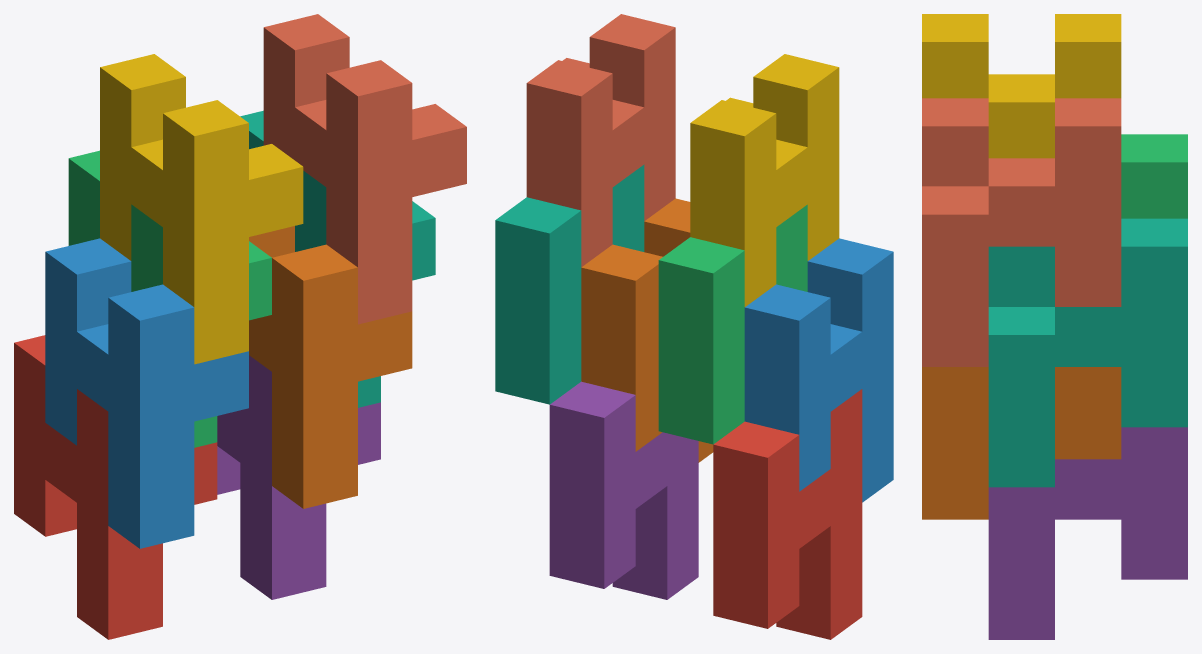
The model's file is tiling.obj.
The picture shows the model from 3 angles, left to right: view 1: azimuth 30°, elevation 25°; view 2: azimuth 150°, elevation 25°; view 3: azimuth 270°, elevation 25°; orthographic projection. The views are drawn at different scales.
Visible parts, largest first — view 1: copy_1_domain_2, copy_1_domain_4, copy_1_domain_8, copy_1_domain_6, copy_1_domain_1, copy_1_domain_5, copy_1_domain_3, copy_1_domain_7; view 2: copy_1_domain_1, copy_1_domain_2, copy_1_domain_5, copy_1_domain_4, copy_1_domain_8, copy_1_domain_7, copy_1_domain_3, copy_1_domain_6; view 3: copy_1_domain_8, copy_1_domain_7, copy_1_domain_5, copy_1_domain_4, copy_1_domain_6, copy_1_domain_3.
Part boxes in pixels (box(x1,y1,x2,y2)): copy_1_domain_2: box(45, 238, 248, 548); copy_1_domain_4: box(100, 54, 303, 364); copy_1_domain_8: box(263, 14, 466, 324); copy_1_domain_6: box(249, 226, 412, 508); copy_1_domain_1: box(14, 335, 217, 639); copy_1_domain_5: box(217, 355, 380, 599); copy_1_domain_3: box(68, 150, 271, 447); copy_1_domain_7: box(240, 110, 435, 407); copy_1_domain_1: box(713, 389, 862, 639); copy_1_domain_2: box(744, 238, 893, 502); copy_1_domain_5: box(549, 381, 698, 599); copy_1_domain_4: box(690, 54, 839, 306); copy_1_domain_8: box(526, 14, 675, 266); copy_1_domain_7: box(495, 164, 644, 404); copy_1_domain_3: box(658, 204, 807, 444); copy_1_domain_6: box(581, 198, 713, 462); copy_1_domain_8: box(922, 98, 1121, 366); copy_1_domain_7: box(988, 218, 1187, 487); copy_1_domain_5: box(988, 427, 1187, 639); copy_1_domain_4: box(922, 14, 1121, 158); copy_1_domain_6: box(922, 367, 1121, 519); copy_1_domain_3: box(1121, 134, 1187, 218).
Bounding box in the file's own units: 6 × 9 × 4.
